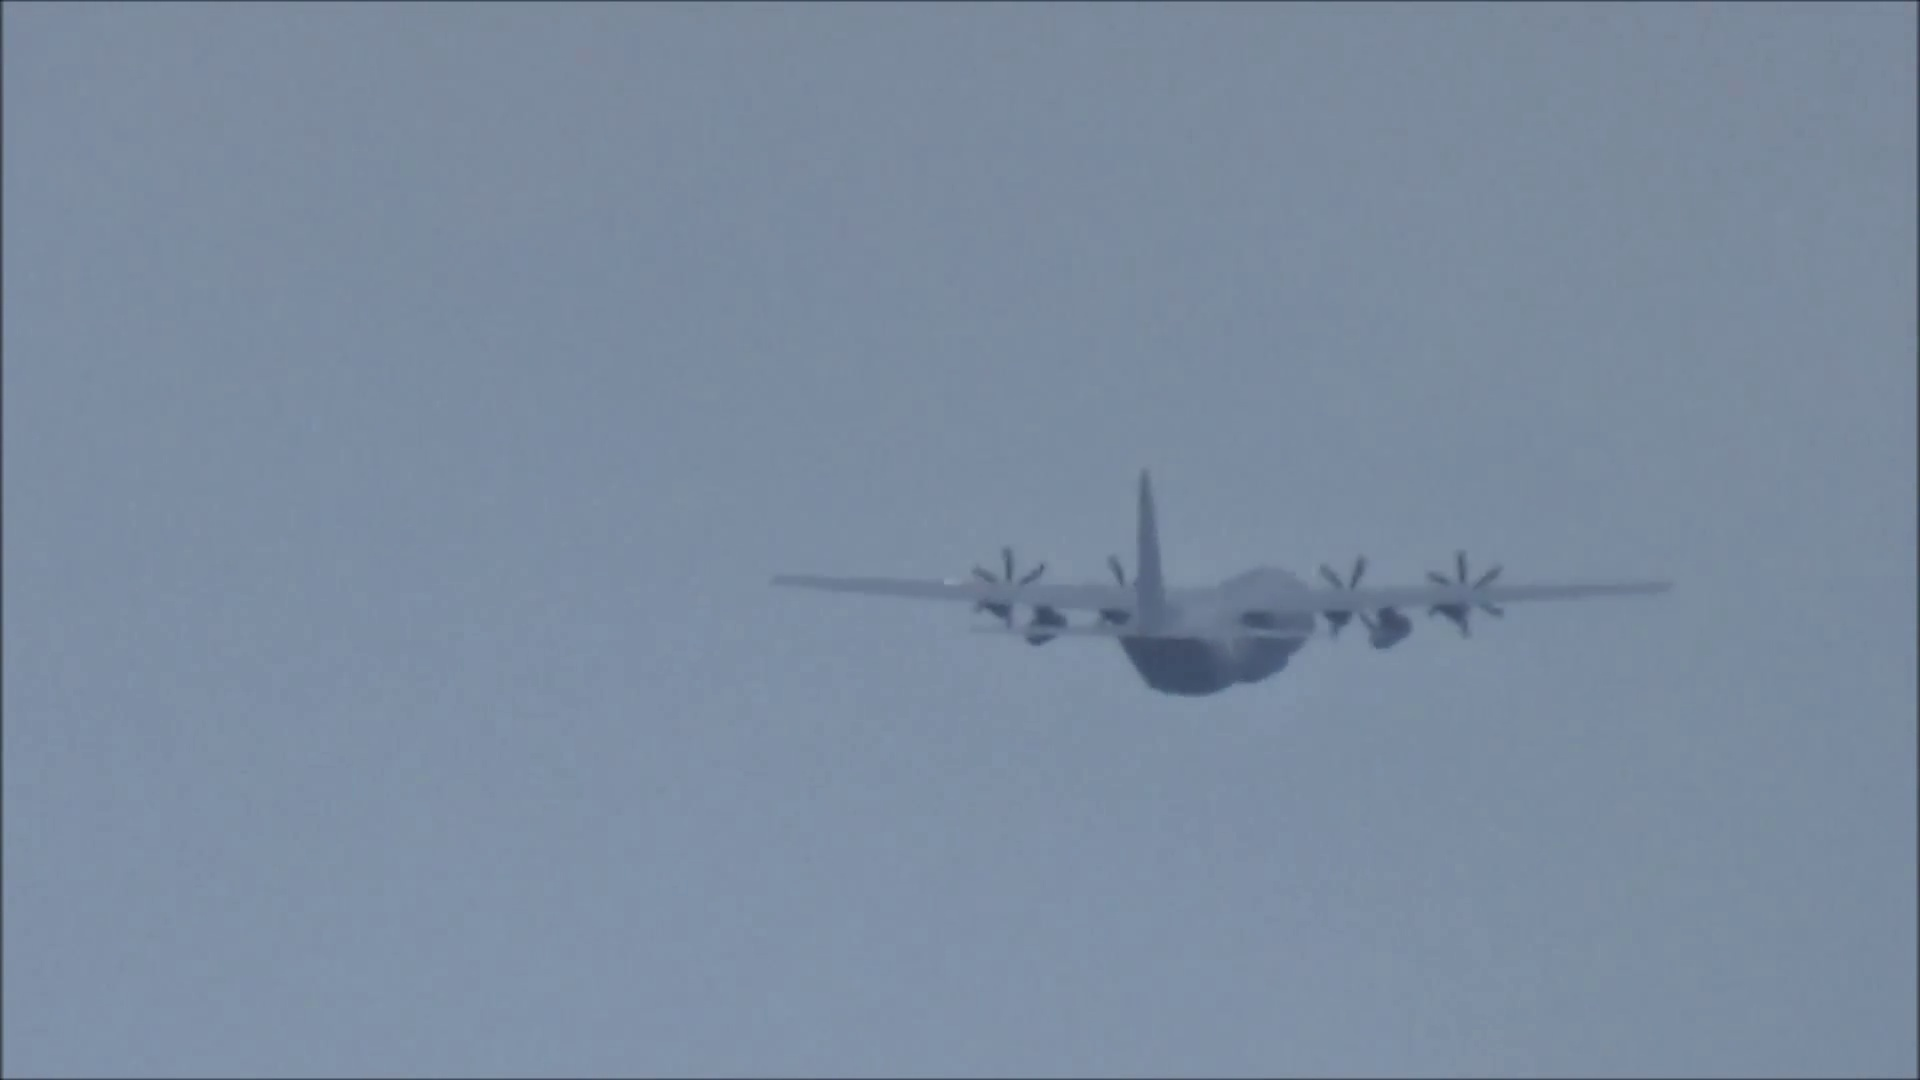Airplane: (761, 463, 1687, 703)
